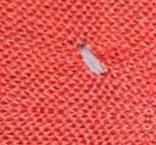hole: (76, 41, 112, 80)
